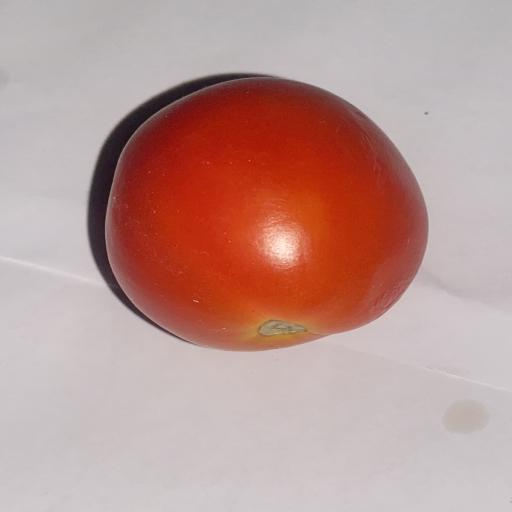overipe: (105, 78, 428, 350)
